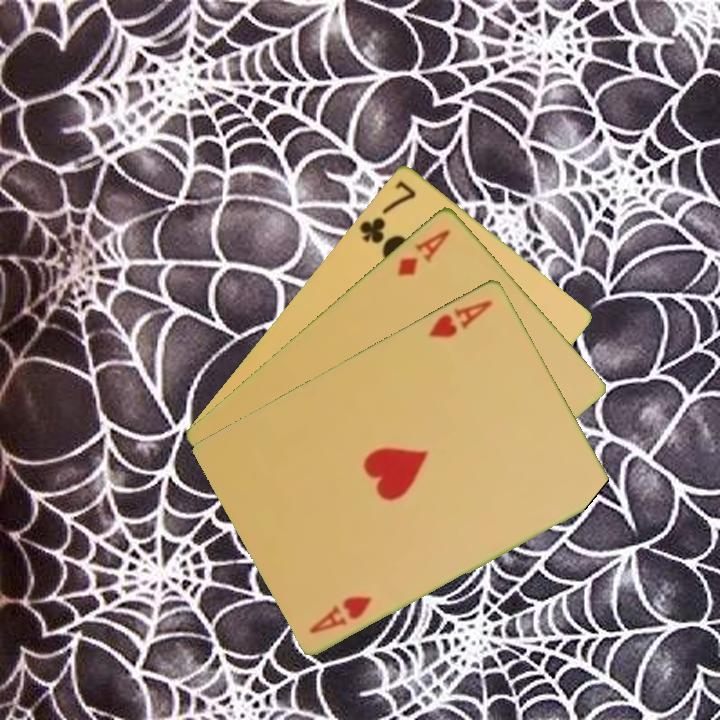7c: (355, 176, 419, 247)
Ad: (393, 224, 454, 279)
Ah: (424, 295, 496, 341), (306, 591, 375, 636)
